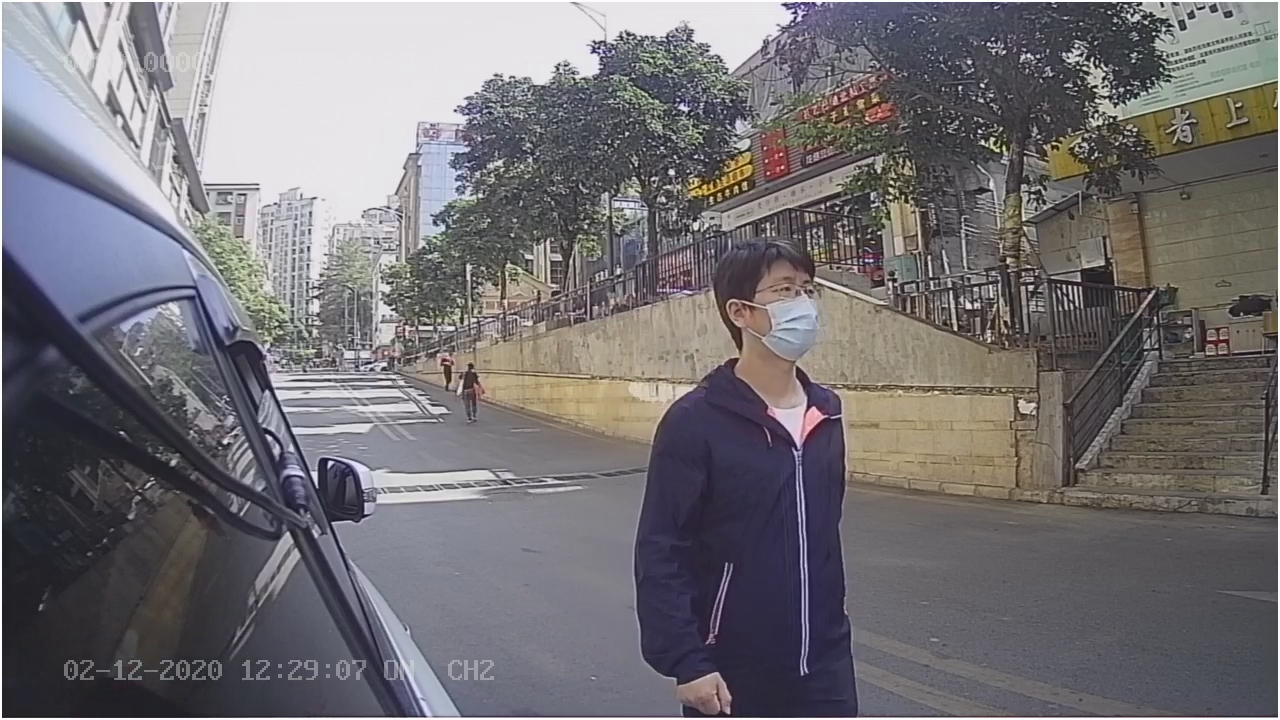person: (622, 234, 917, 715)
